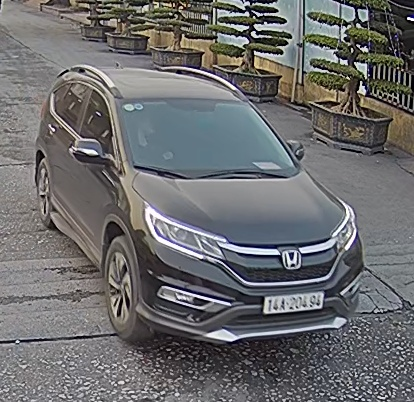vehicle plate: (257, 290, 329, 315)
